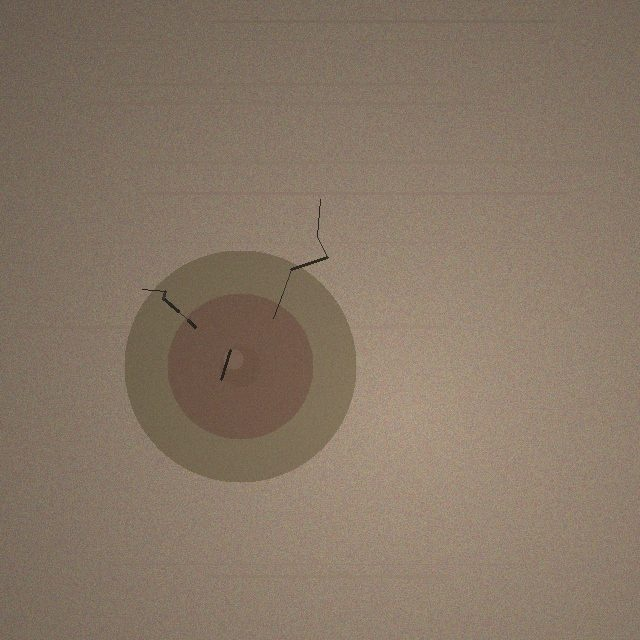crack: (124, 250, 356, 482)
